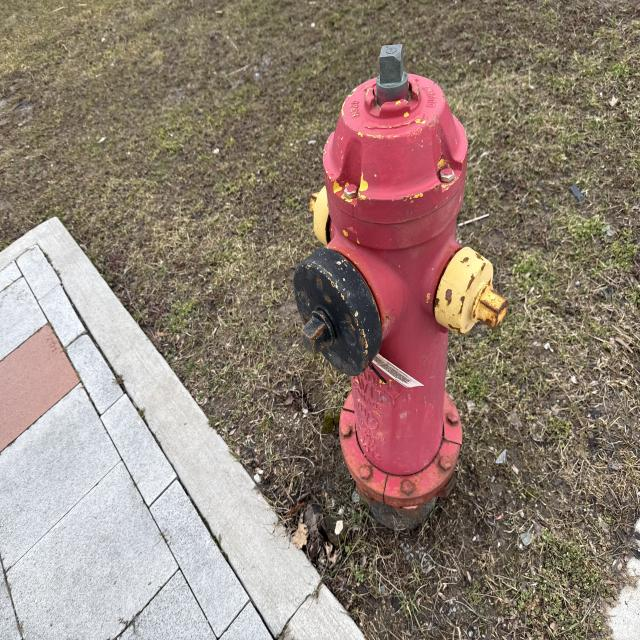Fire hydrant: (291, 42, 508, 518)
